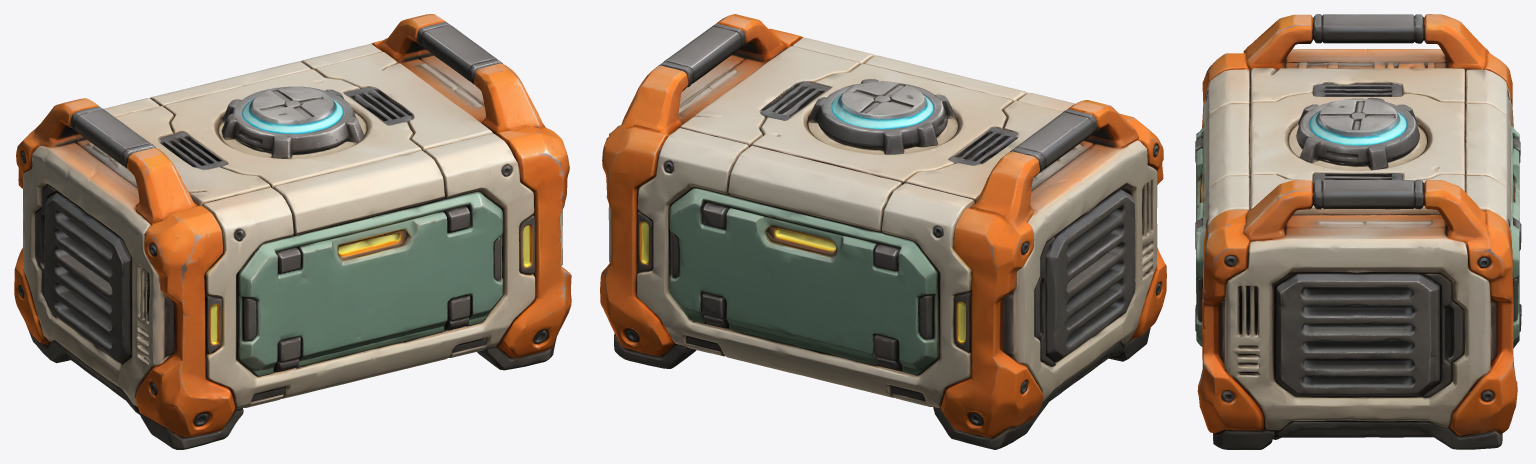
File: futuristic cargo box 3d model.glb
3 renders of one model, left to right at view 1: azimuth 30°, elevation 25°; view 2: azimuth 150°, elevation 25°; view 3: azimuth 270°, elevation 25°, orthographic. The views are drawn at different scales.
Visible parts, largest first — view 1: tripo_node_c8ade6be-18c0-4ca1-83c8-884332b330a9; view 2: tripo_node_c8ade6be-18c0-4ca1-83c8-884332b330a9; view 3: tripo_node_c8ade6be-18c0-4ca1-83c8-884332b330a9.
Part boxes in pixels (box(x1,y1,x2,y2)): tripo_node_c8ade6be-18c0-4ca1-83c8-884332b330a9: box(14, 14, 571, 449); tripo_node_c8ade6be-18c0-4ca1-83c8-884332b330a9: box(600, 14, 1166, 449); tripo_node_c8ade6be-18c0-4ca1-83c8-884332b330a9: box(1195, 14, 1521, 449).
Bounding box in the file's own units: 1 × 0.5992 × 0.6862.
1 material, 1 textured.
